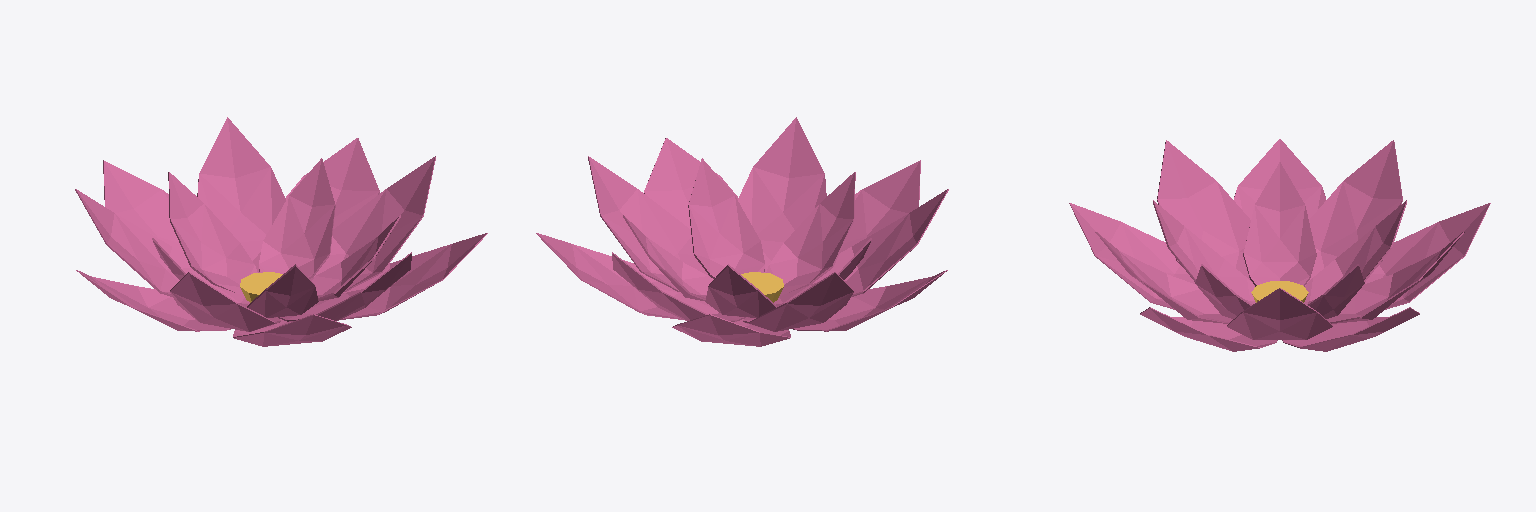
The picture shows the model from 3 angles: view 1: azimuth 30°, elevation 25°; view 2: azimuth 150°, elevation 25°; view 3: azimuth 270°, elevation 25°; orthographic projection.
Parts seen in each view (by area): view 1: 큐브.001_큐브.003; view 2: 큐브.001_큐브.003; view 3: 큐브.001_큐브.003.
Part boxes in pixels (bbox=[...]): 큐브.001_큐브.003: bbox=[75, 117, 487, 346]; 큐브.001_큐브.003: bbox=[536, 117, 948, 346]; 큐브.001_큐브.003: bbox=[1069, 139, 1490, 351].
Size of the model in its own units: 5.23 by 1.55 by 5.3.
1 materials, 1 textured.